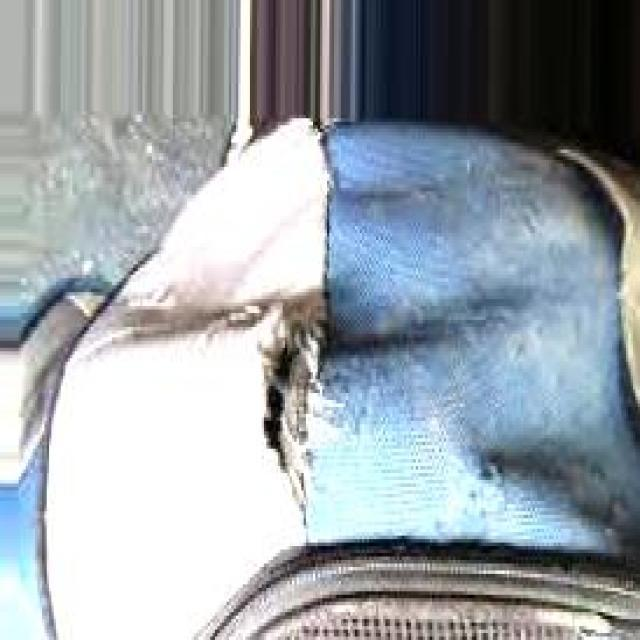Damage-bag: (116, 282, 326, 510), (454, 446, 630, 534)
